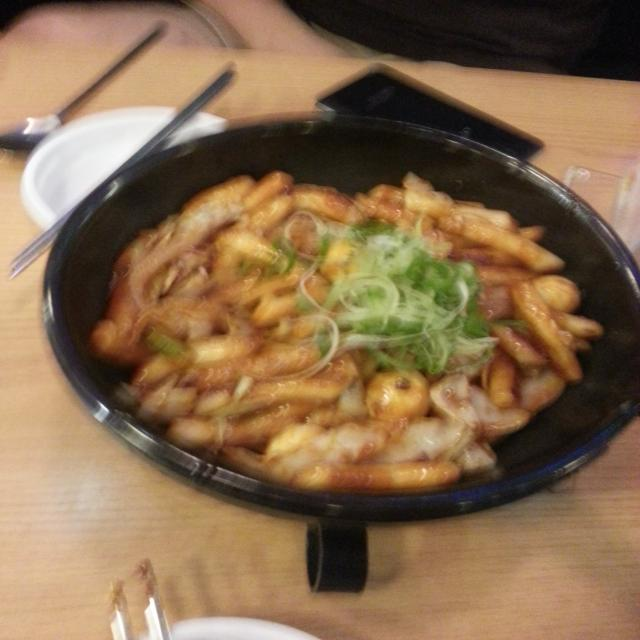Bowl: (41, 110, 640, 524)
